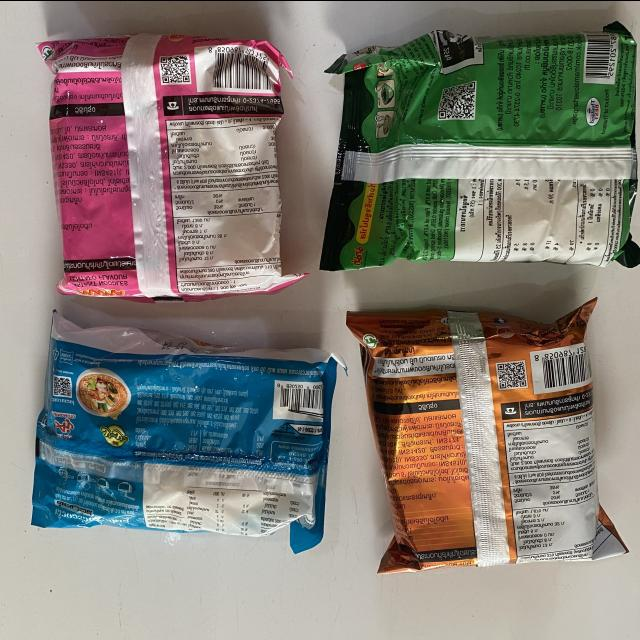plastik: (320, 22, 640, 270), (347, 298, 627, 572), (32, 312, 343, 552), (38, 32, 305, 300)
